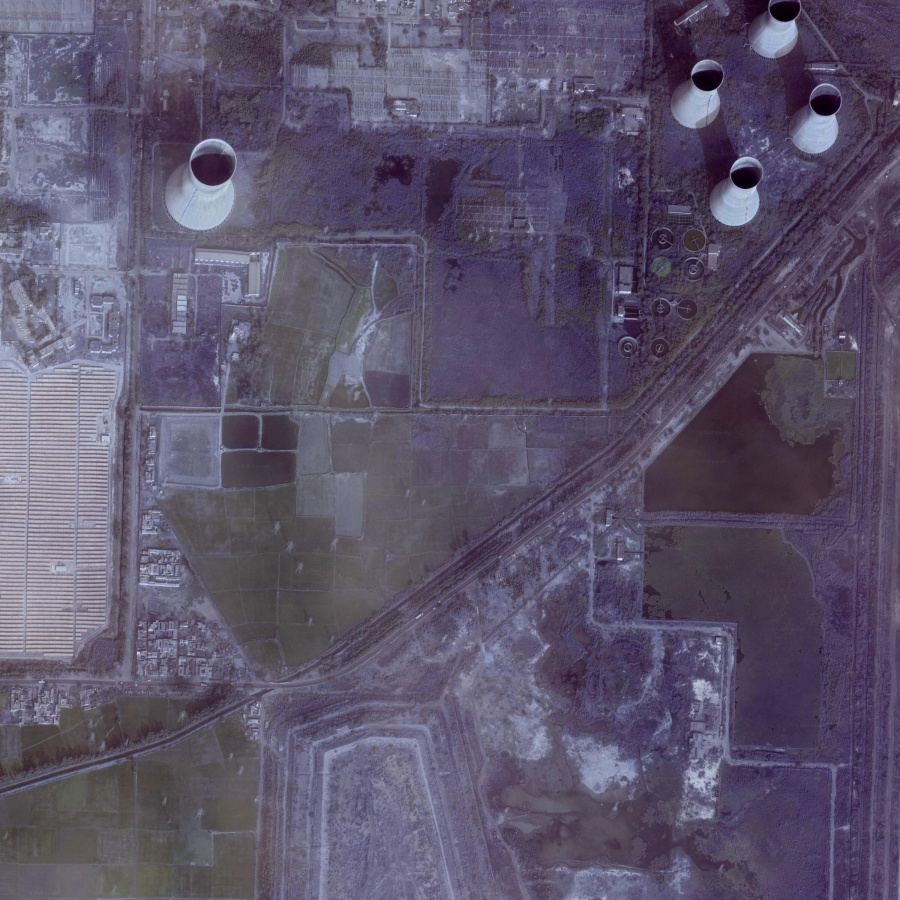PowerPlant: (145, 126, 389, 400)
